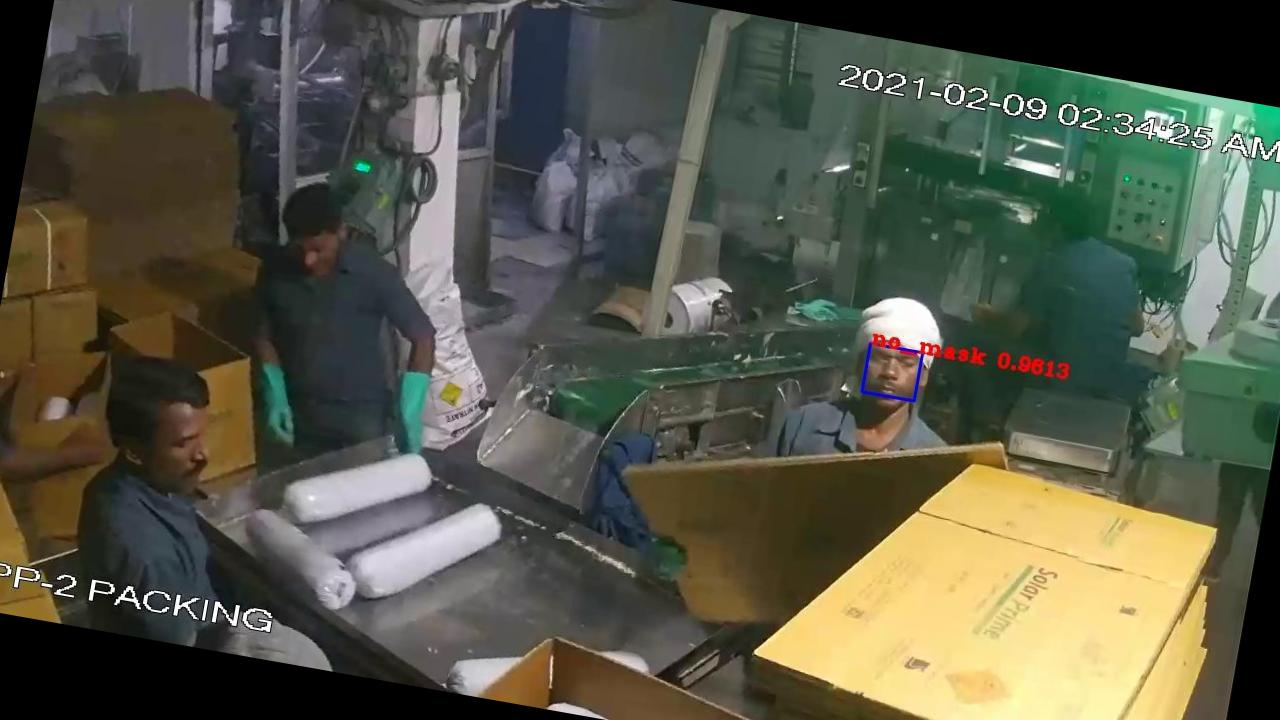Gloves: (352, 344, 464, 481), (231, 340, 325, 464)
No-gloves: (0, 384, 120, 502)
